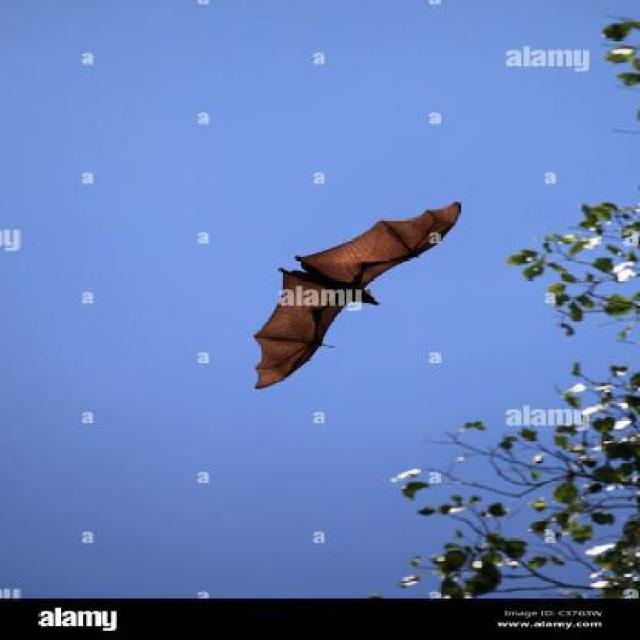Bat: (244, 192, 463, 400)
